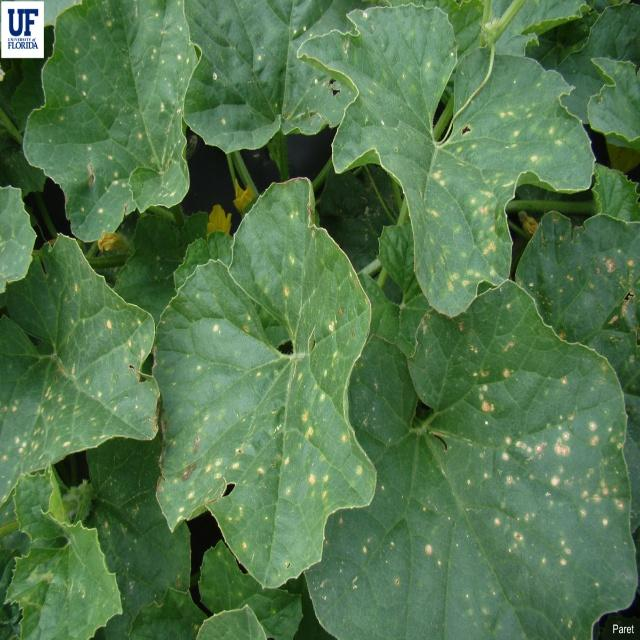leaf_spot: (140, 164, 386, 596)
